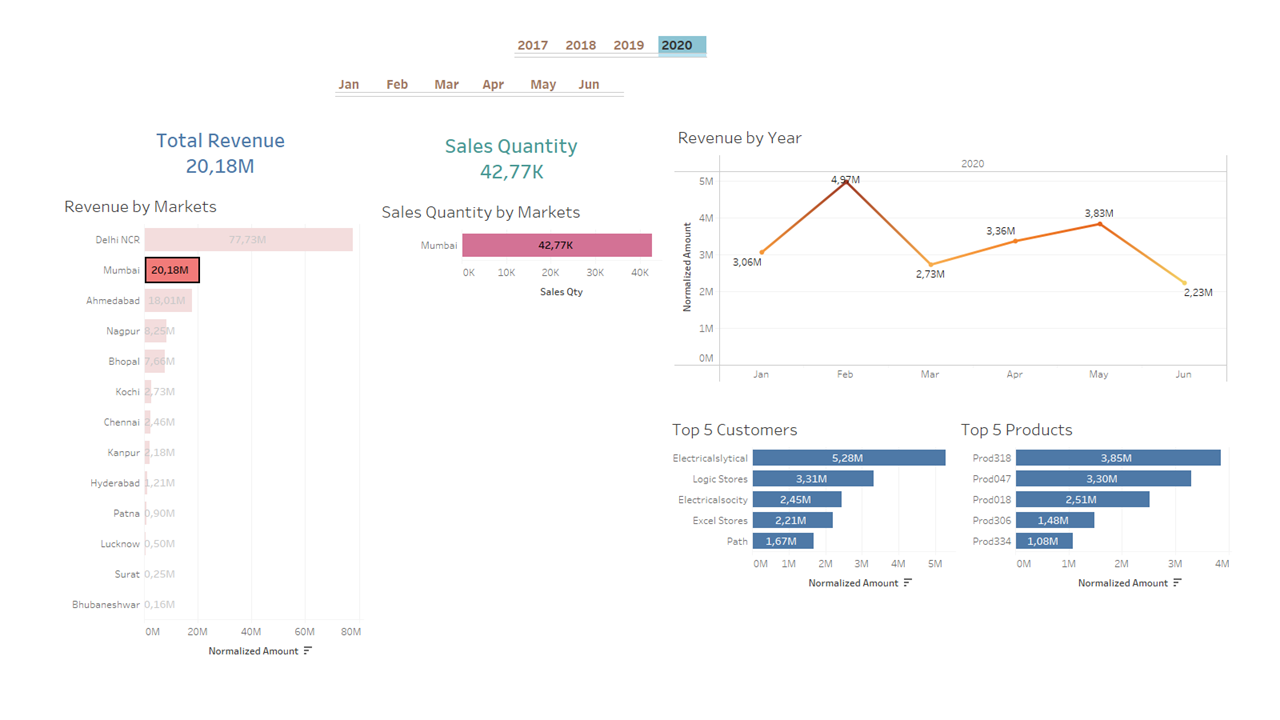

What the dashboard file says about the page in this screenshot:
{"tool":"tableau","page":{"name":"Dashboard - Revenue Analysis","canvas":[1500,900],"ordinal":1},"visuals":[{"type":"worksheet","title":"Year","mark":"Automatic","cols":["cy_date"],"box":[593,30,260,47]},{"type":"worksheet","title":"Month","mark":"Automatic","cols":["cy_date"],"box":[369,79,744,57]},{"type":"worksheet","title":"Revenue","mark":"Automatic","box":[136,143,201,98]},{"type":"worksheet","title":"Quantity","mark":"Automatic","box":[500,150,187,105]},{"type":"worksheet","title":"Revenue by Year","mark":"Automatic","rows":["Calculation_1449596146905944064"],"cols":["cy_date","cy_date"],"box":[793,151,691,327]},{"type":"worksheet","title":"Revenue by Markets","mark":"Automatic","rows":["markets_name"],"cols":["Calculation_1449596146905944064"],"box":[26,237,378,634]},{"type":"worksheet","title":"Sales Quantity by Markets","mark":"Automatic","rows":["markets_name"],"cols":["sales_qty"],"box":[423,244,354,632]},{"type":"worksheet","title":"Top 5 Customers","mark":"Automatic","rows":["custmer_name"],"cols":["Calculation_1449596146905944064"],"box":[786,516,358,230]},{"type":"worksheet","title":"Top 5 Products","mark":"Automatic","rows":["product_code"],"cols":["Calculation_1449596146905944064"],"box":[1147,516,342,235]}]}

Visuals, with their boxes on the page's 1500x900 design canvas (x1, y1, x2, y2). These are canvas units, not pixel positions in the 1280x720 screenshot, which may show the page scaled, cropped or inside an application window:
"Year" worksheet: 593/30/853/77
"Month" worksheet: 369/79/1113/136
"Revenue" worksheet: 136/143/337/241
"Quantity" worksheet: 500/150/687/255
"Revenue by Year" worksheet: 793/151/1484/478
"Revenue by Markets" worksheet: 26/237/404/871
"Sales Quantity by Markets" worksheet: 423/244/777/876
"Top 5 Customers" worksheet: 786/516/1144/746
"Top 5 Products" worksheet: 1147/516/1489/751
